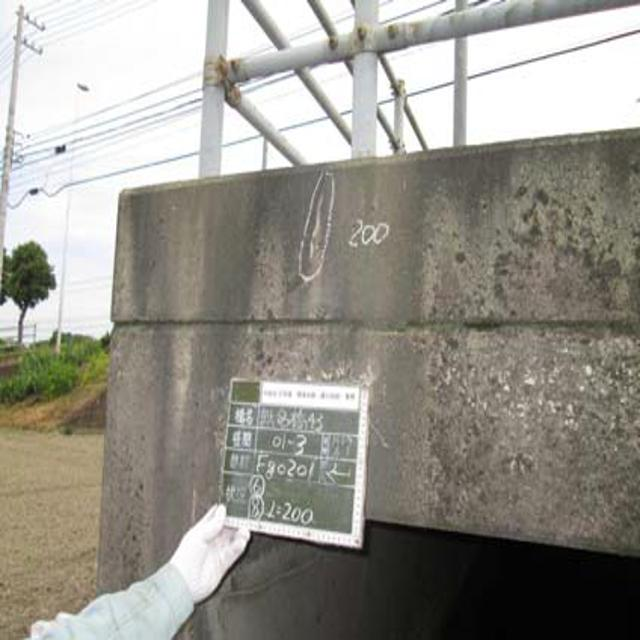freelime: (303, 178, 330, 263)
